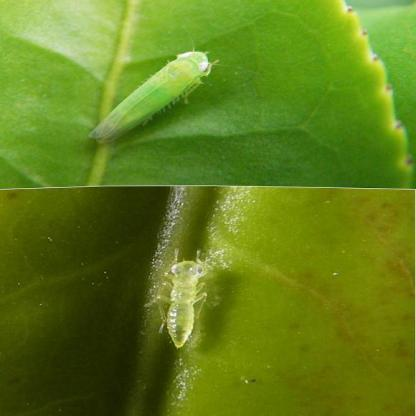green-leafhopper: (83, 47, 219, 144), (145, 252, 234, 348)
